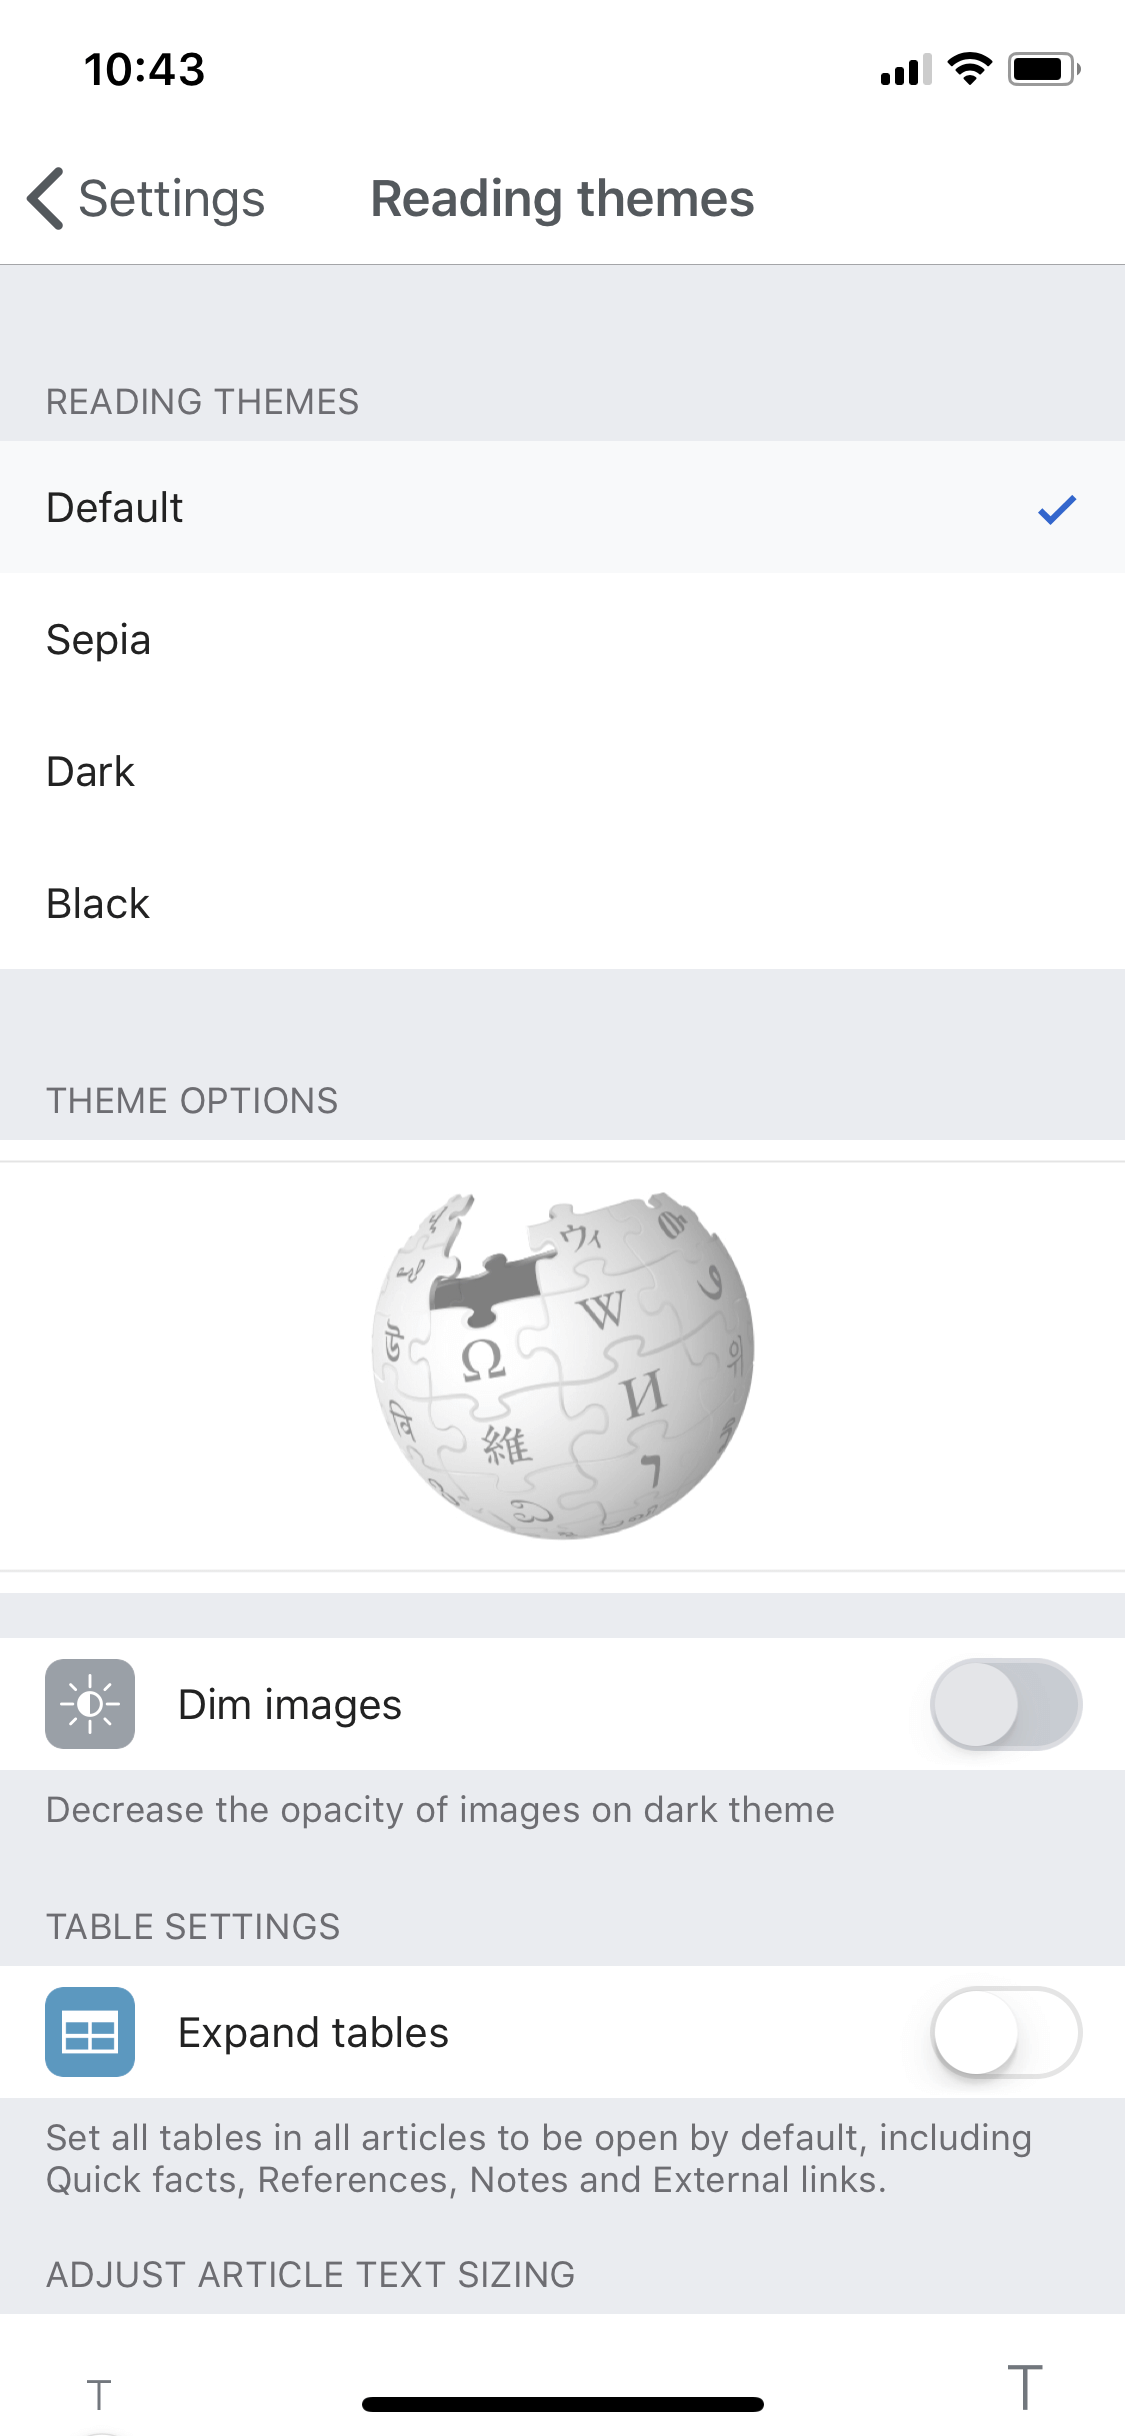Buttons: (5, 115, 295, 256)
Radio buttons: (2, 432, 1125, 581)
Switches: (926, 1650, 1086, 1751), (929, 1985, 1089, 2083)
